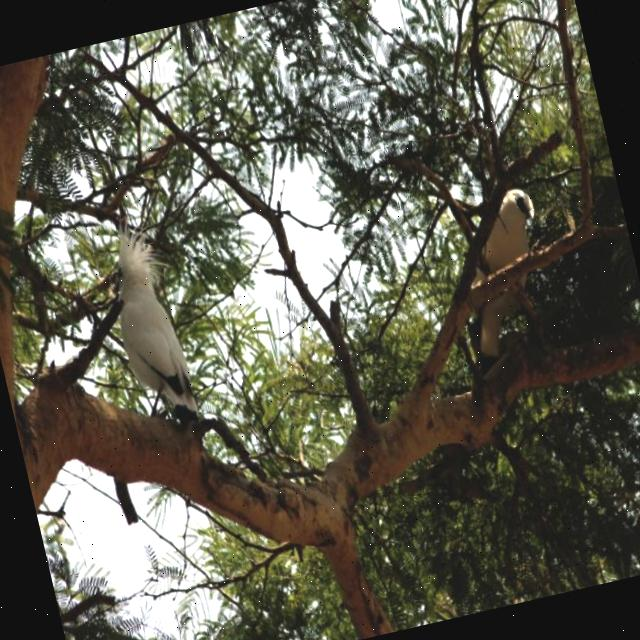Jalak Bali: (83, 200, 220, 458), (438, 162, 580, 370)
